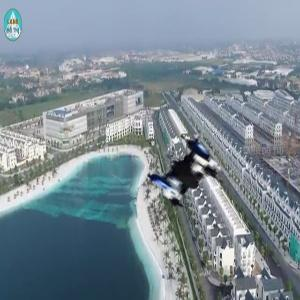drone: (109, 104, 229, 224)
